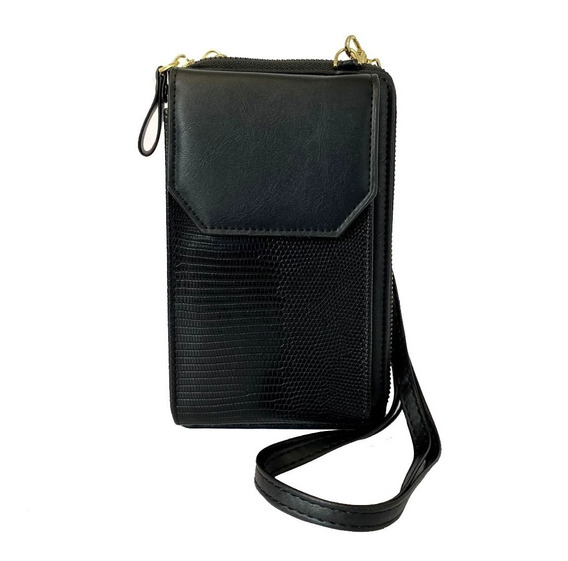cartera: (135, 34, 444, 537)
